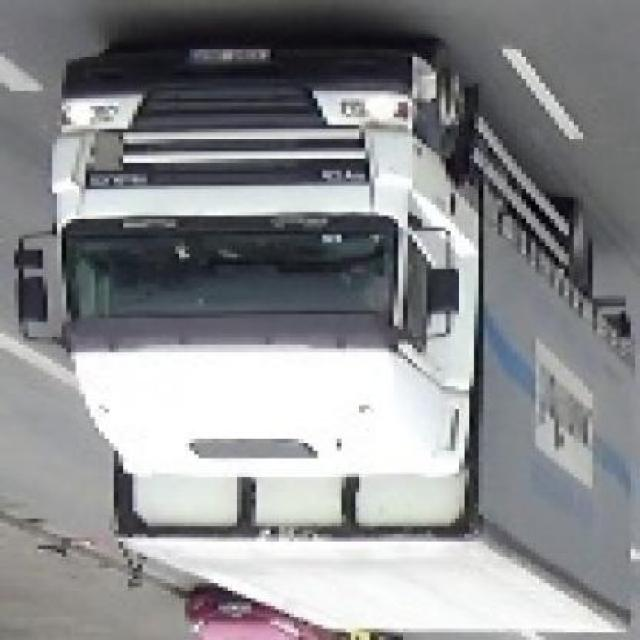truck: (21, 39, 640, 640)
